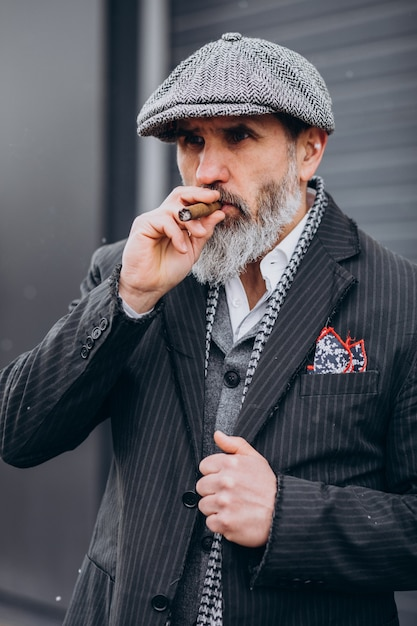cigarette: (175, 201, 224, 223)
